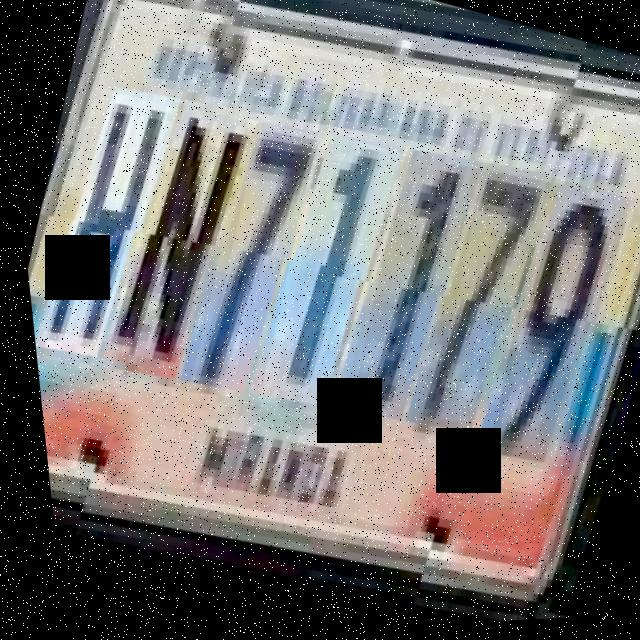1: (229, 130, 424, 430), (310, 149, 502, 447)
7: (384, 164, 570, 460), (160, 118, 346, 413)
9: (454, 179, 640, 485)
H: (14, 87, 200, 382)
N: (83, 100, 278, 400)
